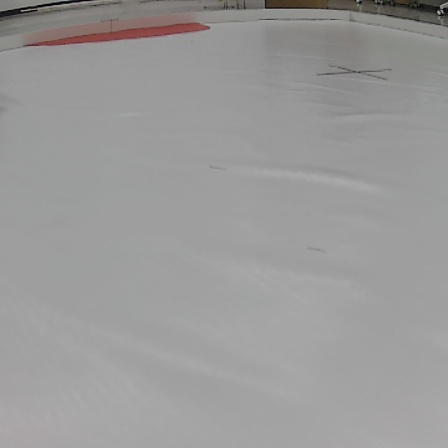red_base: (29, 21, 220, 44)
